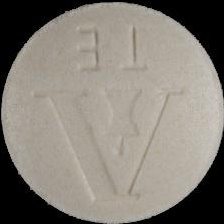0456-0459: (0, 0, 224, 224)
